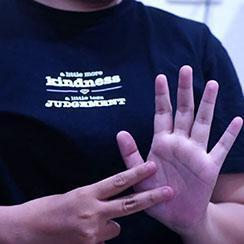N: (10, 25, 242, 242)
